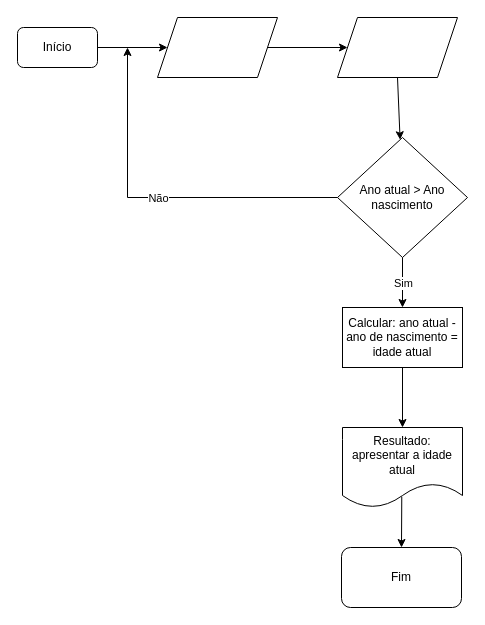
Some shapes in this 485 by 625 pixel diagram are drawn without their labels. The box of each missing label's shape, as (x1, y1, x2, y2) in pixels:
Perguntar ano atual: (336, 16, 458, 78)
Perguntar ano de nascimento: (156, 16, 278, 78)
